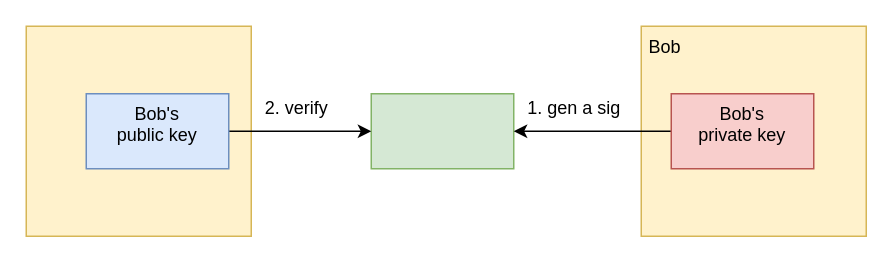
This 893x263 diagram has some shape labels left out. Here are the shapes that lost their labels. From the top down, the box of each, then its label:
(25, 25, 251, 236): Alice
(370, 92, 514, 169): Bob's signature
